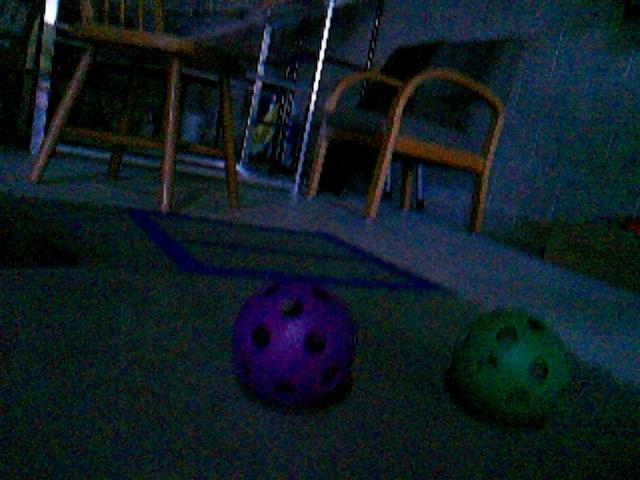Green: (445, 308, 573, 426)
Purple: (229, 278, 358, 407)
